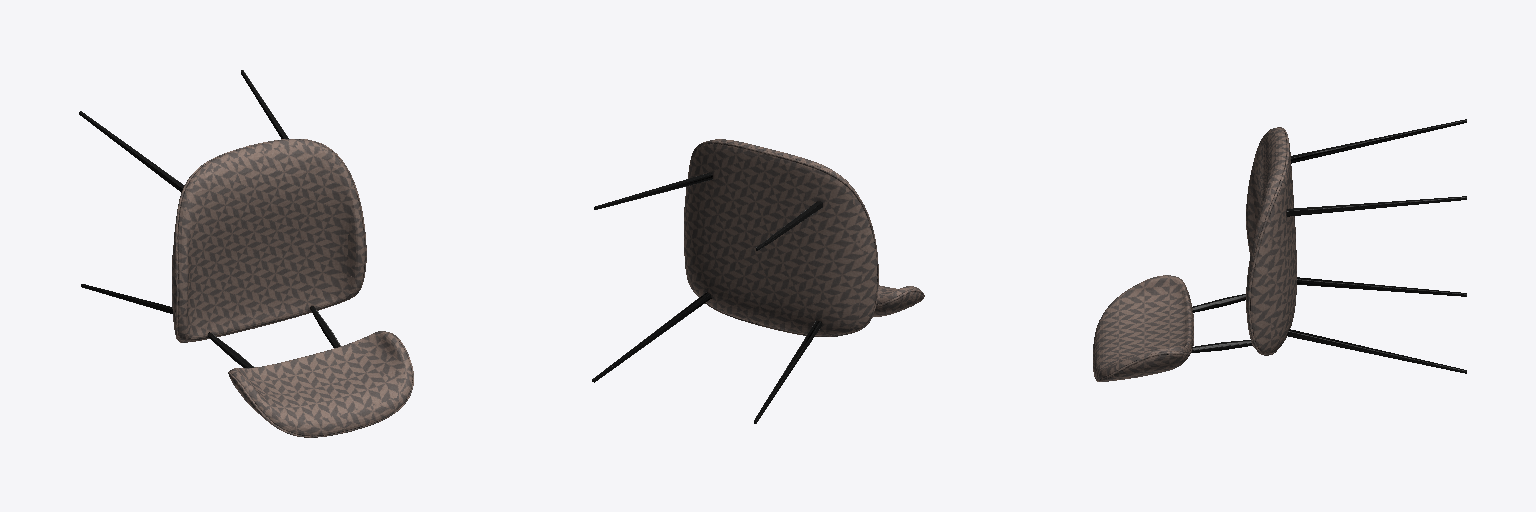
3 views of the same model, side by side, from view 1: azimuth 30°, elevation 25°; view 2: azimuth 150°, elevation 25°; view 3: azimuth 270°, elevation 25° (orthographic).
Bounding box in the file's own units: 0.5208 × 0.565 × 0.8849.
Materials: 1 (1 with a texture image).